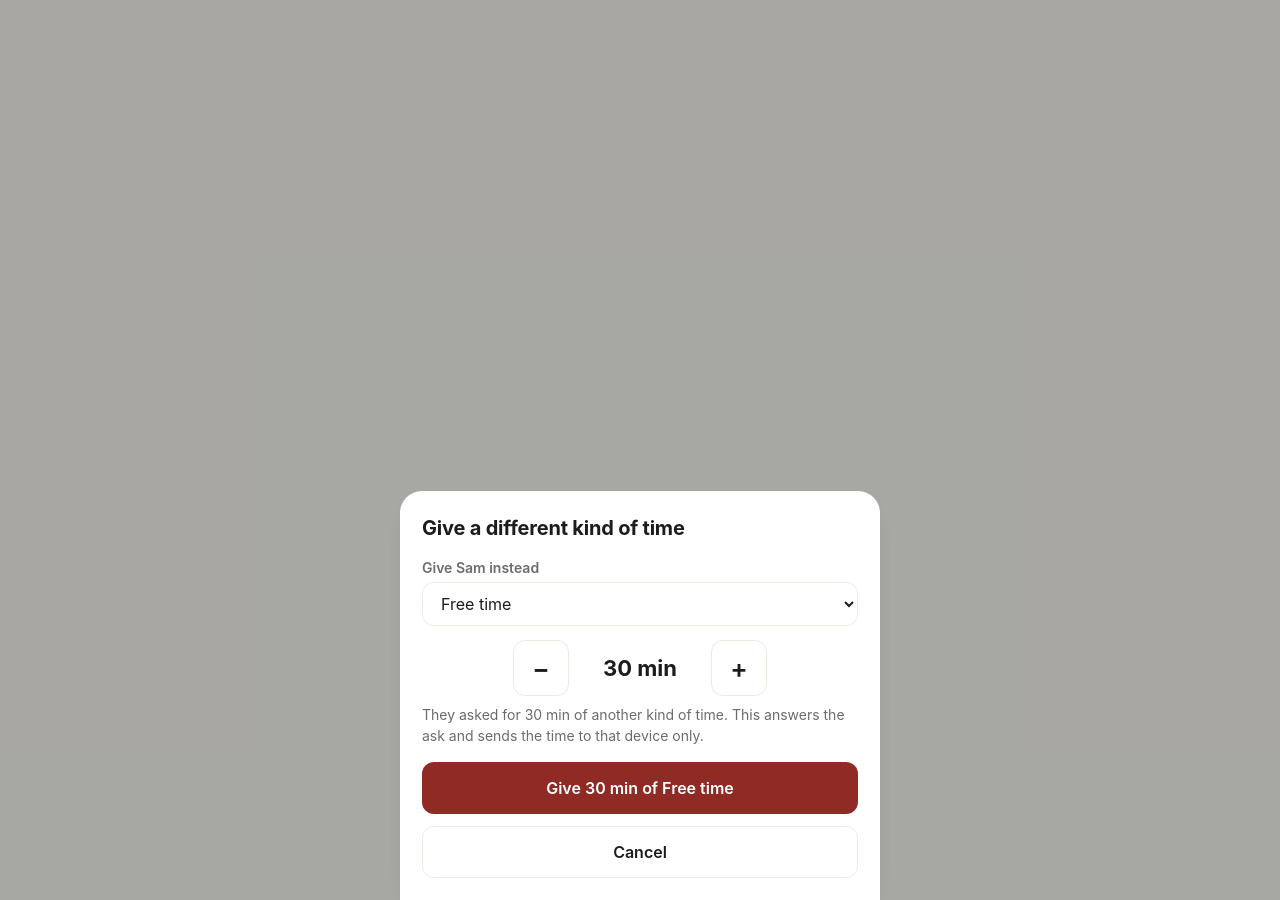
Test: More time with times › answering an ask with a different kind › shows the error and stays open when it cannot be sent
Click the button "Give 30 min of Free time" at (640, 788), box [422,762,858,814]
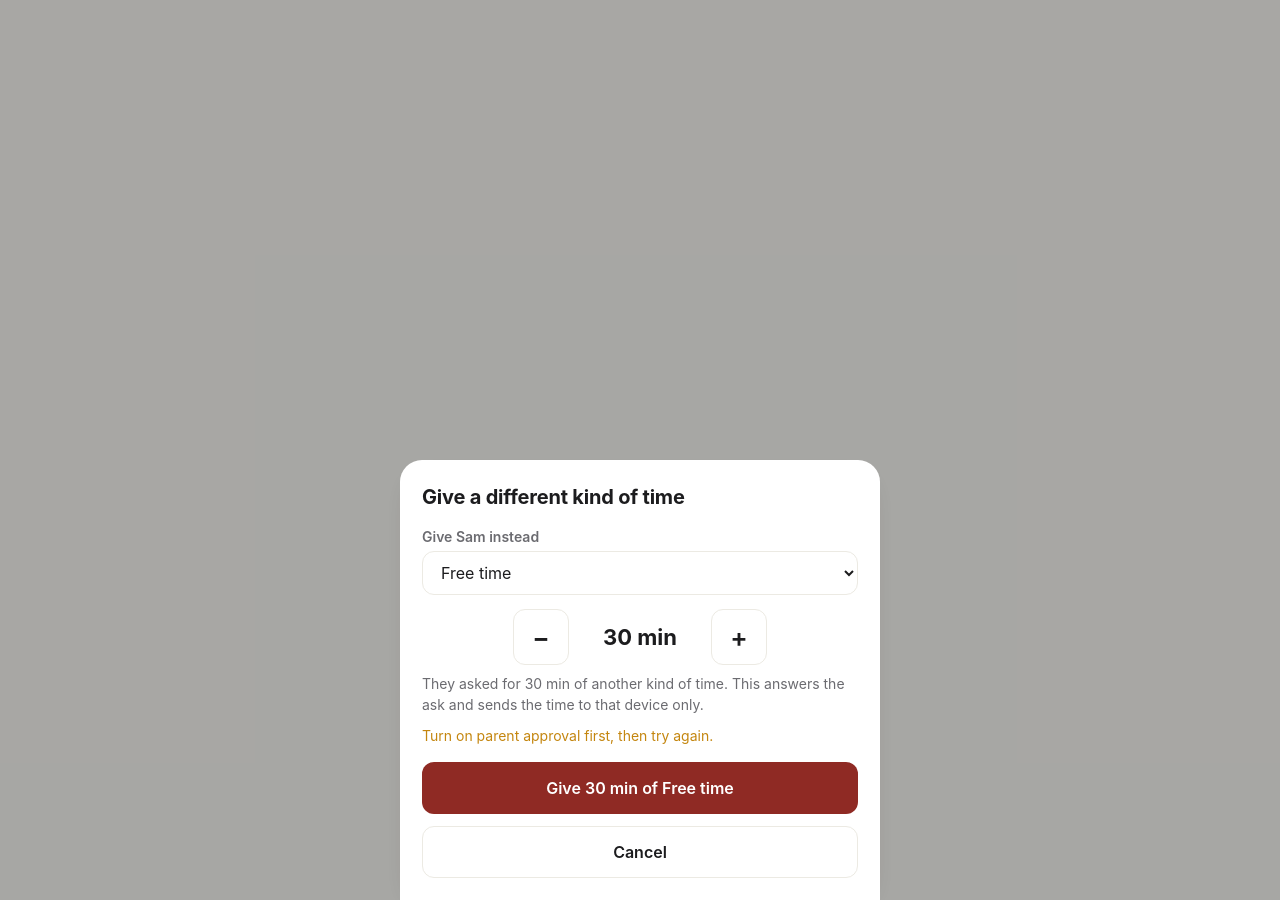
Expected: the message "Turn on parent approval first, then try again." is shown, [422,727,713,744]
